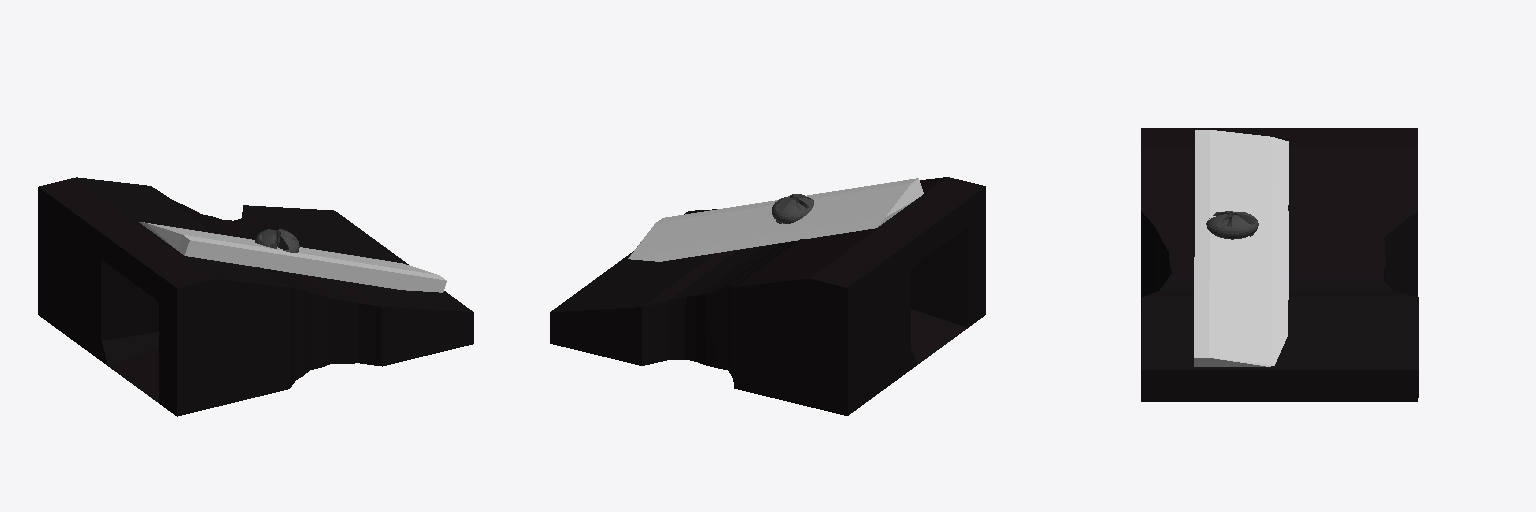
Rendered from sacaPuntas (2).obj.
The picture shows the model from 3 angles: view 1: azimuth 30°, elevation 25°; view 2: azimuth 150°, elevation 25°; view 3: azimuth 270°, elevation 25°; orthographic projection.
Visible parts, largest first — view 1: Cubo_Cubo.003, Cubo.001_Cubo, Esfera_Esfera.007; view 2: Cubo_Cubo.003, Cubo.001_Cubo, Esfera_Esfera.007; view 3: Cubo_Cubo.003, Cubo.001_Cubo, Esfera_Esfera.007.
Part boxes in pixels (x1,y1,x2,y2): Cubo_Cubo.003: (38,177,473,416); Cubo.001_Cubo: (139,222,446,292); Esfera_Esfera.007: (255,229,299,252); Cubo_Cubo.003: (550,177,985,415); Cubo.001_Cubo: (628,178,923,261); Esfera_Esfera.007: (772,194,813,223); Cubo_Cubo.003: (1141,128,1418,401); Cubo.001_Cubo: (1194,130,1288,366); Esfera_Esfera.007: (1206,211,1258,239).
Bounding box in the file's own units: 2.47 × 1.17 × 2.01.